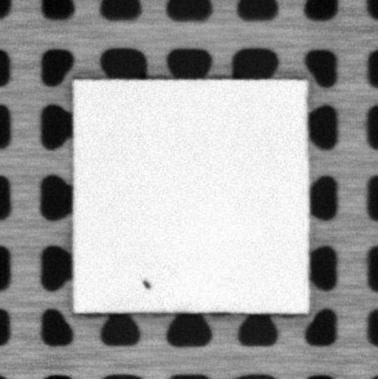DIE_INK: (140, 277, 152, 290)
